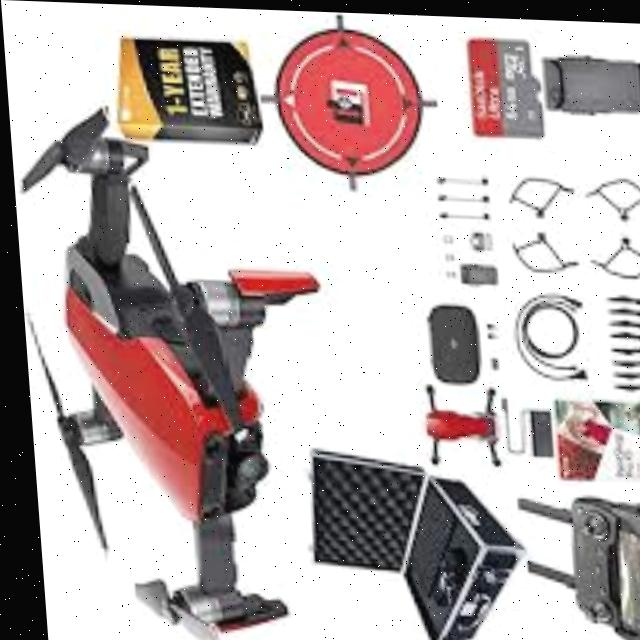drone: (6, 106, 341, 640)
